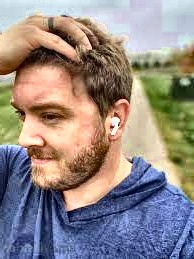earphone: (105, 99, 131, 141)
